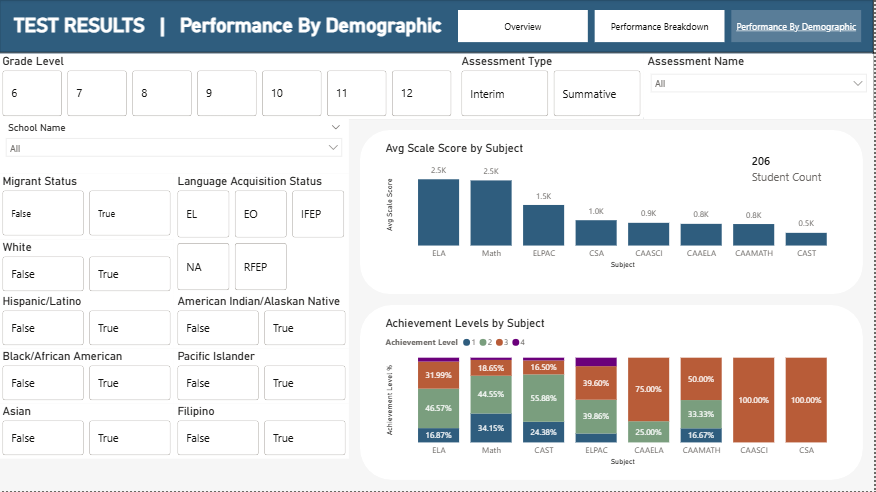

The page's visual inventory and layout, read from the dashboard file:
{"tool":"powerbi","page":{"name":"Performance By Demographic","canvas":[1280,720],"ordinal":2},"visuals":[{"type":"shape","box":[0,0,1280,79.4],"z":0,"group":"g1"},{"type":"shape","box":[528,192,736,240],"z":0},{"type":"group","id":"g1","title":"Group 1","box":[0,0,1280,176],"z":1000},{"type":"shape","box":[0,78.2,1280,97.8],"z":1000,"group":"g1"},{"type":"textbox","box":[16,0,656,80],"z":2000},{"type":"advancedSlicerVisual","title":"Grade Level","fields":{"Values":["test_results.GradeLevelWhenAssessed"]},"box":[0,80,672,96],"z":3000},{"type":"advancedSlicerVisual","title":"Assessment Type","fields":{"Values":["test.AssessmentType"]},"box":[672,80,272,96],"z":4000},{"type":"slicer","title":"Assessment Name","fields":{"Values":["test.AssessmentName"]},"box":[944,80,336,96],"z":5000},{"type":"clusteredColumnChart","title":"Avg Scale Score by Subject","fields":{"Category":["test.Subject"],"Y":["Avg(test_results.ScaleScore)"]},"box":[560,208,688,192],"z":6000},{"type":"slicer","fields":{"Values":["school.SchoolName"]},"box":[0,176,512,80],"z":7000},{"type":"shape","box":[528,448,736,256],"z":8000},{"type":"hundredPercentStackedColumnChart","title":"Achievement Levels by Subject","fields":{"Category":["test.Subject"],"Y":["Sum(test_results.ScaleScoreAchievementLevel)"],"Series":["test_results.ScaleScoreAchievementLevel"]},"box":[560,464,688,224],"z":9000},{"type":"advancedSlicerVisual","fields":{"Values":["student.IsMigrant"]},"box":[0,256.1,256,96],"z":10000},{"type":"advancedSlicerVisual","title":"White","fields":{"Values":["student.IsWhite"]},"box":[0,352.1,256,80],"z":11000},{"type":"advancedSlicerVisual","title":"Hispanic/Latino","fields":{"Values":["student.IsHispanicOrLatino"]},"box":[0,432.1,256,80],"z":12000},{"type":"advancedSlicerVisual","title":"Black/African American","fields":{"Values":["student.IsBlackOrAfricanAmerican"]},"box":[0,512.1,256,80],"z":13000},{"type":"advancedSlicerVisual","title":"Asian","fields":{"Values":["student.IsAsian"]},"box":[0,592.1,256,80],"z":14000},{"type":"advancedSlicerVisual","title":"American Indian/Alaskan Native","fields":{"Values":["student.IsAmericanIndianOrAlaskaNative"]},"box":[256,432.1,256,80],"z":15000},{"type":"cardVisual","fields":{"Data":["test_results.Student Count"]},"box":[1072,208,176,80],"z":16000},{"type":"advancedSlicerVisual","fields":{"Values":["student.IsNativeHawaiianOrOtherPacificIslander"]},"box":[256,512.1,256,80],"z":17000},{"type":"advancedSlicerVisual","title":"Filipino","fields":{"Values":["student.IsFilipino"]},"box":[256,592.1,256,80],"z":18000},{"type":"advancedSlicerVisual","fields":{"Values":["student.EnglishLanguageAcquisitionStatus"]},"box":[256,256.1,256,176],"z":19000},{"type":"pageNavigator","box":[672,16,592,48],"z":19001}]}

Visuals, with their boxes in screenshot pixels (x1, y1, x2, y2), scaled from the page's 1280x720 canvas onto the 876x492 screenshot:
shape: detection(0, 0, 875, 54)
shape: detection(361, 131, 865, 295)
"Group 1" group: detection(0, 0, 875, 120)
shape: detection(0, 53, 875, 120)
textbox: detection(11, 0, 460, 55)
"Grade Level" advancedSlicerVisual: detection(0, 55, 460, 120)
"Assessment Type" advancedSlicerVisual: detection(460, 55, 646, 120)
"Assessment Name" slicer: detection(646, 55, 875, 120)
"Avg Scale Score by Subject" clusteredColumnChart: detection(383, 142, 854, 273)
slicer - school.SchoolName: detection(0, 120, 350, 175)
shape: detection(361, 306, 865, 481)
"Achievement Levels by Subject" hundredPercentStackedColumnChart: detection(383, 317, 854, 470)
advancedSlicerVisual - student.IsMigrant: detection(0, 175, 175, 241)
"White" advancedSlicerVisual: detection(0, 241, 175, 295)
"Hispanic/Latino" advancedSlicerVisual: detection(0, 295, 175, 350)
"Black/African American" advancedSlicerVisual: detection(0, 350, 175, 405)
"Asian" advancedSlicerVisual: detection(0, 405, 175, 459)
"American Indian/Alaskan Native" advancedSlicerVisual: detection(175, 295, 350, 350)
cardVisual - test_results.Student Count: detection(734, 142, 854, 197)
advancedSlicerVisual - student.IsNativeHawaiianOrOtherPacificIslander: detection(175, 350, 350, 405)
"Filipino" advancedSlicerVisual: detection(175, 405, 350, 459)
advancedSlicerVisual - student.EnglishLanguageAcquisitionStatus: detection(175, 175, 350, 295)
pageNavigator: detection(460, 11, 865, 44)
